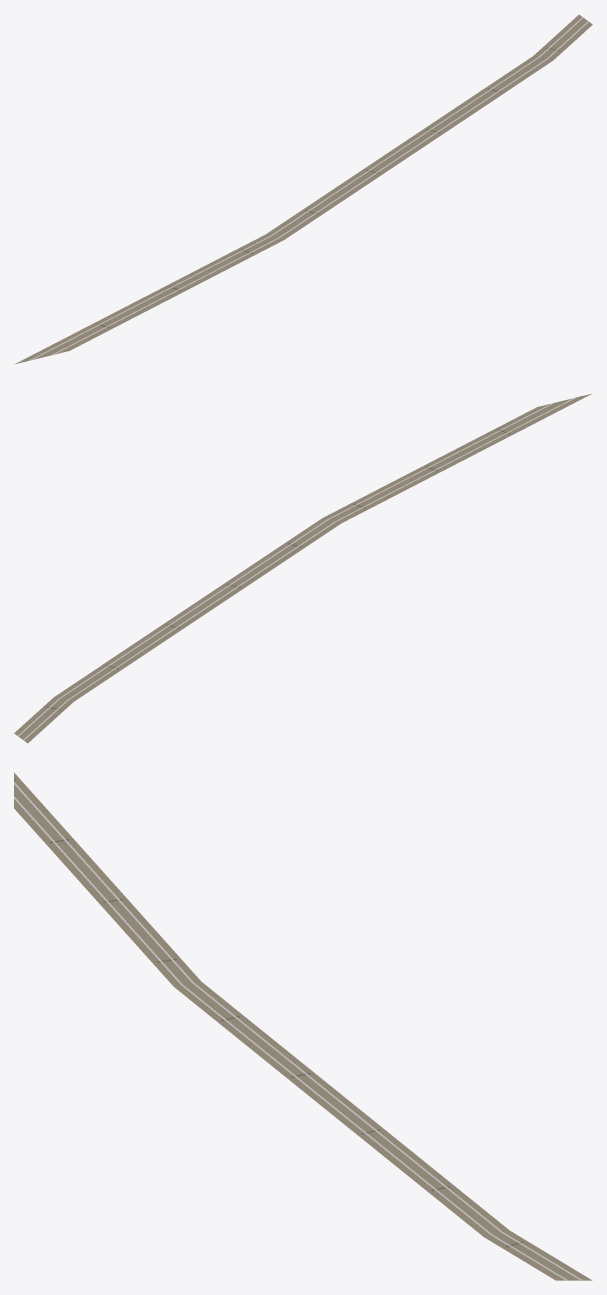
3 renders of one model, top to bottom at view 1: azimuth 30°, elevation 25°; view 2: azimuth 210°, elevation 25°; view 3: azimuth 270°, elevation 25°, orthographic. The views are drawn at different scales.
Parts seen in each view (by area): view 1: rail; view 2: rail; view 3: rail.
Boxes of the visible parts, x1,y1,x2,y2 form: rail: (14,14,592,364); rail: (14,393,592,743); rail: (14,772,592,1280).
Size of the model in its own units: 143 by 0.04 by 68.87.
